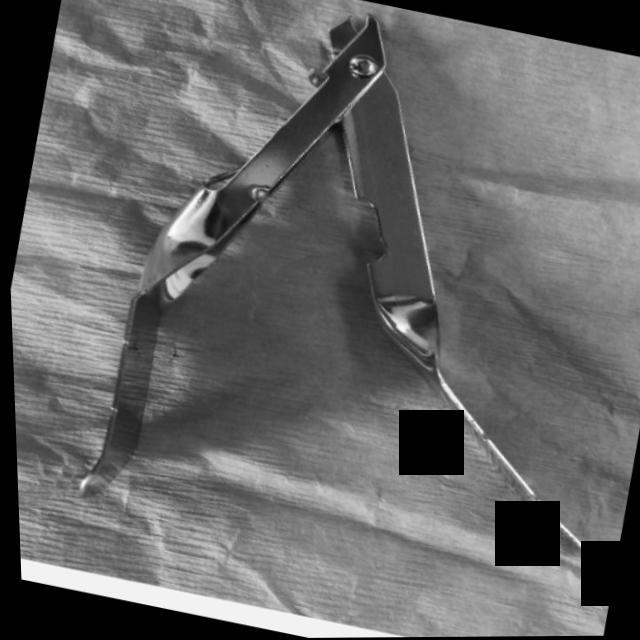Stapler Remover: (39, 0, 640, 612)
